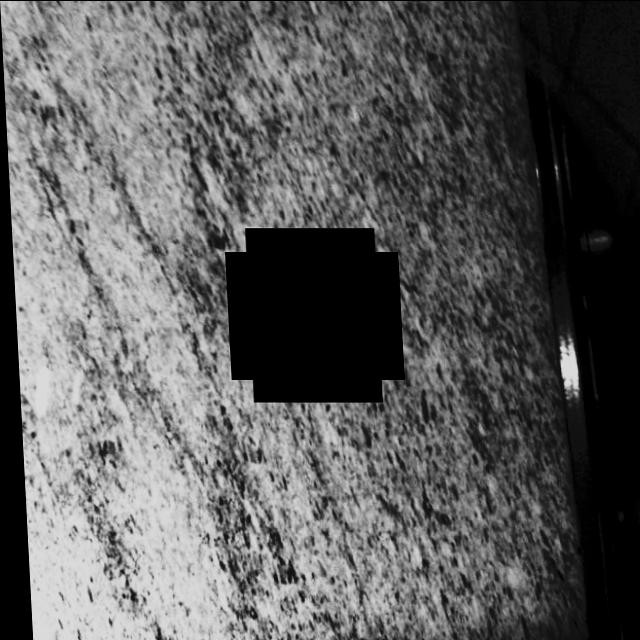qr_code: (232, 239, 390, 390)
